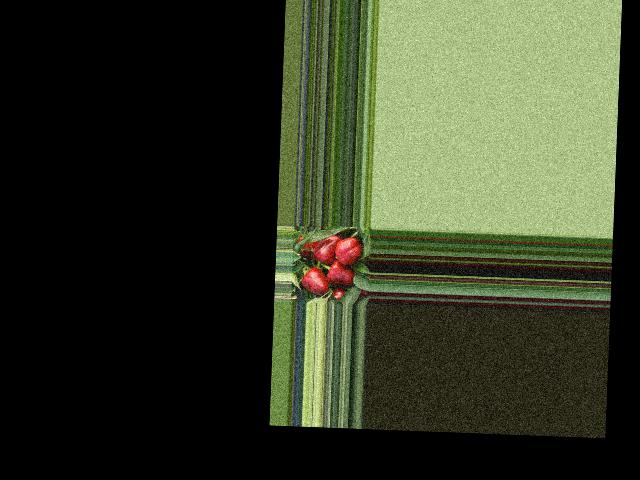bell_pepper: (334, 234, 362, 272)
